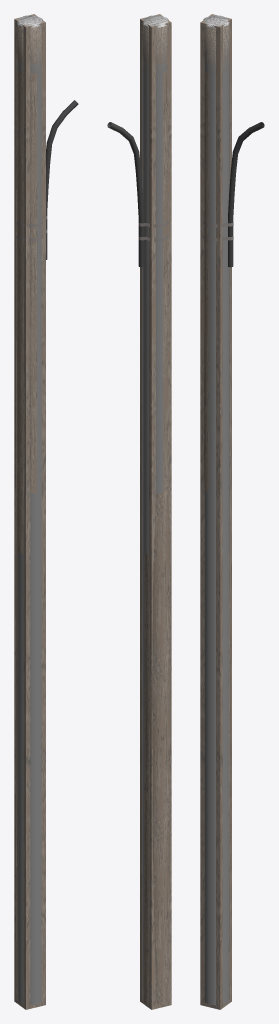
Rendered from si_wood_pole.DAE.
3 views of the same model, side by side, from view 1: azimuth 30°, elevation 25°; view 2: azimuth 210°, elevation 25°; view 3: azimuth 330°, elevation 25° (orthographic).
Parts seen in each view (by area): view 1: Colmesh-1, si_wood_pole100, si_wood_pole600; view 2: si_wood_pole600, Colmesh-1, si_wood_pole100; view 3: si_wood_pole100, Colmesh-1, si_wood_pole600.
Boxes of the visible parts, x1,y1,x2,y2 form: Colmesh-1: (14,14,45,1009); si_wood_pole100: (16,24,41,1005); si_wood_pole600: (15,15,78,1001); si_wood_pole600: (107,15,170,1005); Colmesh-1: (140,14,171,1009); si_wood_pole100: (142,25,167,1001); si_wood_pole100: (204,24,229,1005); Colmesh-1: (200,14,231,1009); si_wood_pole600: (203,15,264,1001).
Size of the model in its own units: 39.19 by 17.94 by 603.
